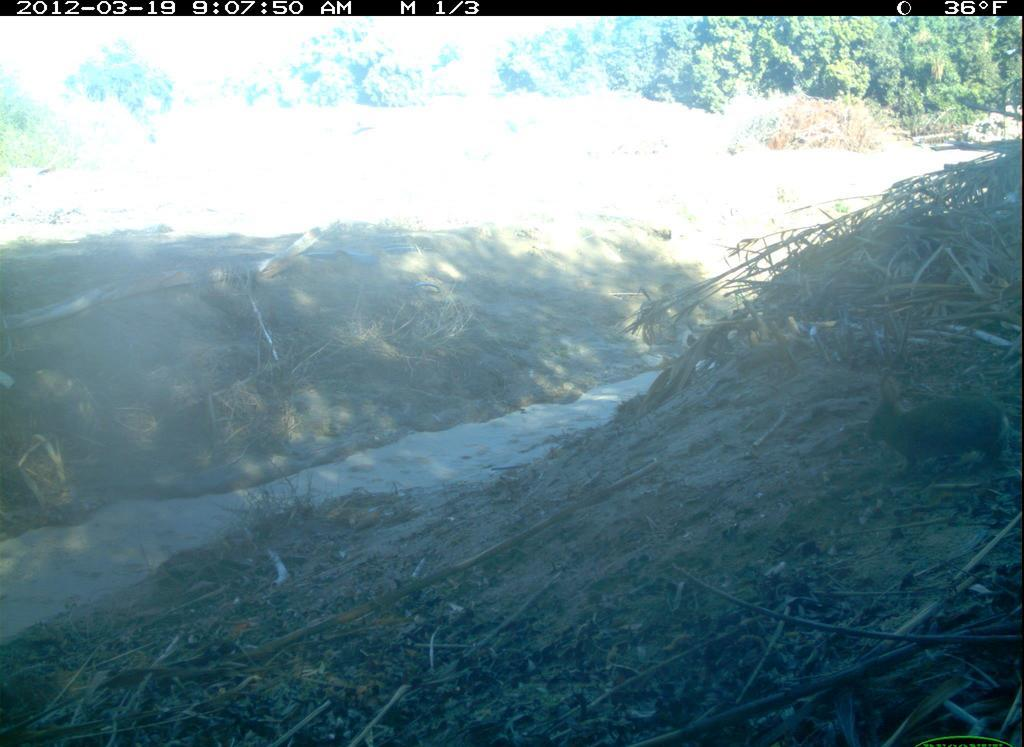rabbit: (865, 374, 1021, 473)
